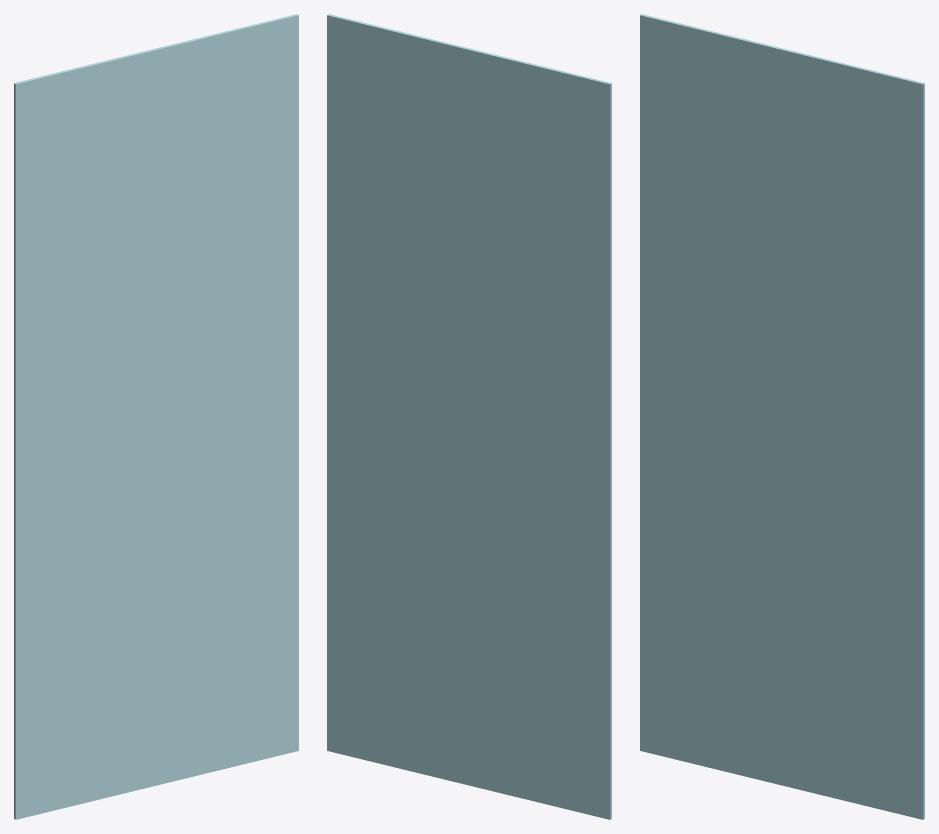
The model's file is WC_Vorderwand.glb.
The picture shows the model from 3 angles, left to right: view 1: azimuth 30°, elevation 25°; view 2: azimuth 150°, elevation 25°; view 3: azimuth 330°, elevation 25°; orthographic projection.
Visible parts, largest first — view 1: Mesh1 Component_78 G_11_WC_Vorderwand_dwg1 Model; view 2: Mesh1 Component_78 G_11_WC_Vorderwand_dwg1 Model; view 3: Mesh1 Component_78 G_11_WC_Vorderwand_dwg1 Model.
Part boxes in pixels (box(x1,y1,x2,y2)): Mesh1 Component_78 G_11_WC_Vorderwand_dwg1 Model: box(14, 14, 298, 819); Mesh1 Component_78 G_11_WC_Vorderwand_dwg1 Model: box(327, 14, 611, 819); Mesh1 Component_78 G_11_WC_Vorderwand_dwg1 Model: box(640, 14, 924, 819).
Bounding box in the file's own units: 92.76 × 230 × 1.01.
